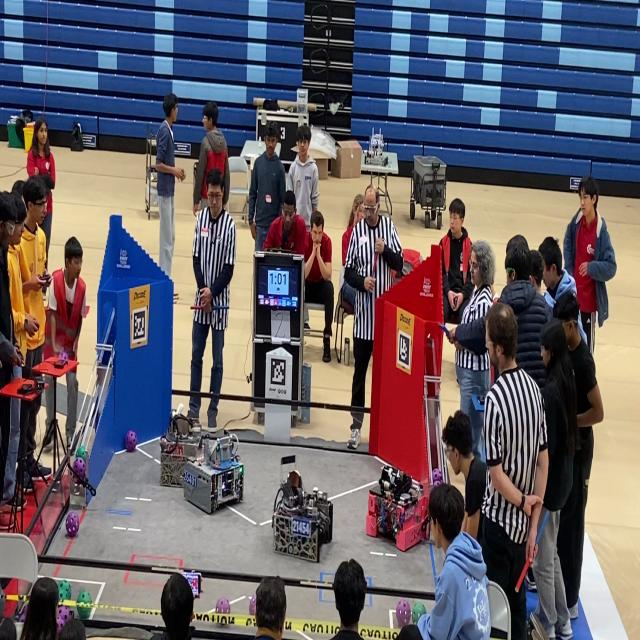artifact_green: (76, 591, 92, 619), (57, 606, 72, 634), (412, 602, 426, 624), (59, 580, 71, 601), (76, 446, 86, 462)
artifact_purple: (57, 606, 72, 634), (396, 600, 411, 626), (66, 512, 79, 538), (72, 458, 86, 479), (59, 580, 71, 602), (125, 431, 137, 452), (216, 598, 230, 613), (432, 469, 443, 484), (18, 605, 27, 622), (57, 616, 65, 635), (249, 595, 256, 615), (432, 480, 442, 488)
